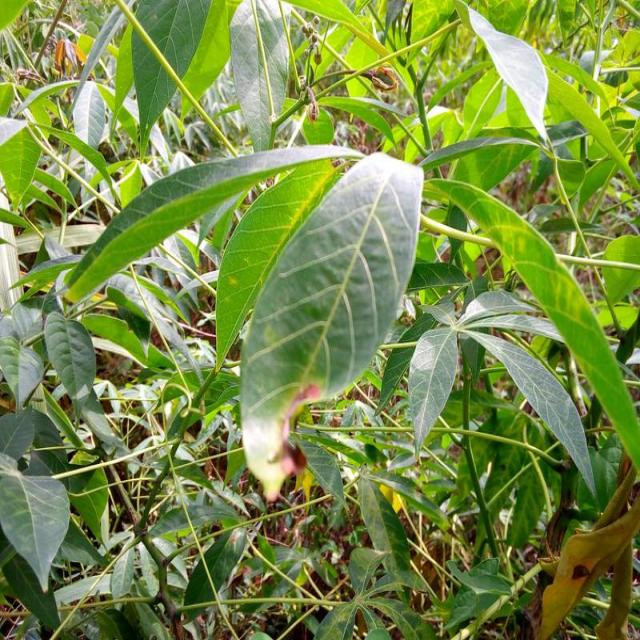cassava leaf: (238, 150, 426, 500)
